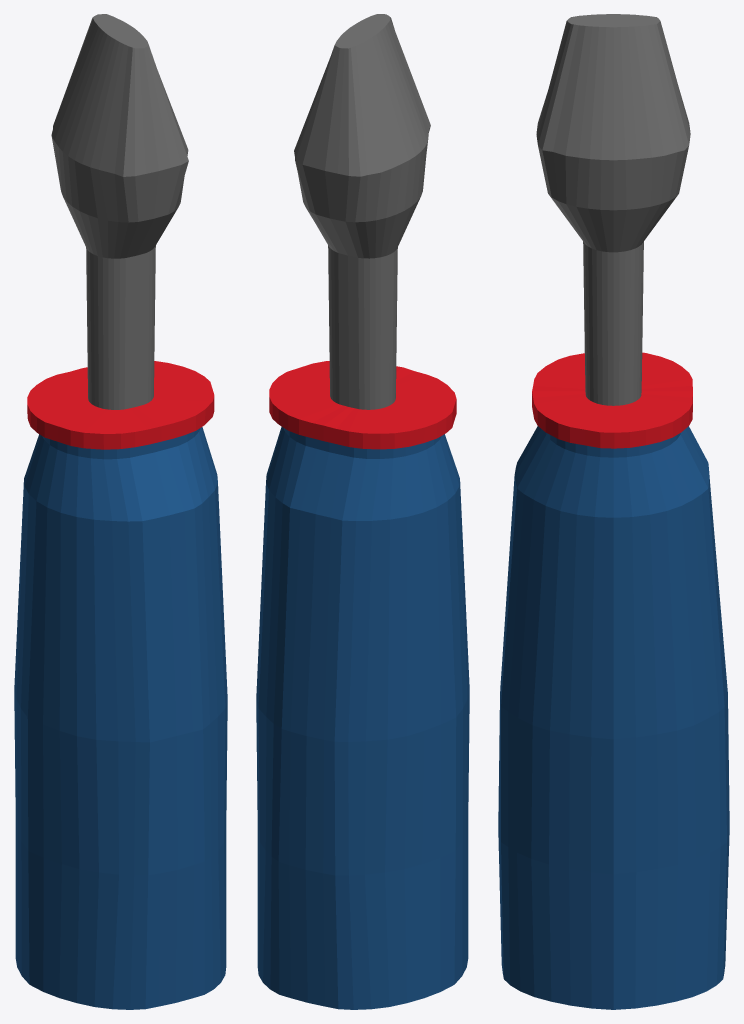
Rendered from ChavedeFenda.fbx.
3 renders of one model, left to right at view 1: azimuth 30°, elevation 25°; view 2: azimuth 150°, elevation 25°; view 3: azimuth 270°, elevation 25°, orthographic.
Visible parts, largest first — view 1: Cilindro; view 2: Cilindro; view 3: Cilindro.
Boxes of the visible parts, x1=… form: Cilindro: x1=14, y1=14, x2=227, y2=1009; Cilindro: x1=256, y1=14, x2=469, y2=1009; Cilindro: x1=498, y1=14, x2=729, y2=1009.
Bounding box in the file's own units: 2.74 × 2.91 × 13.09.
